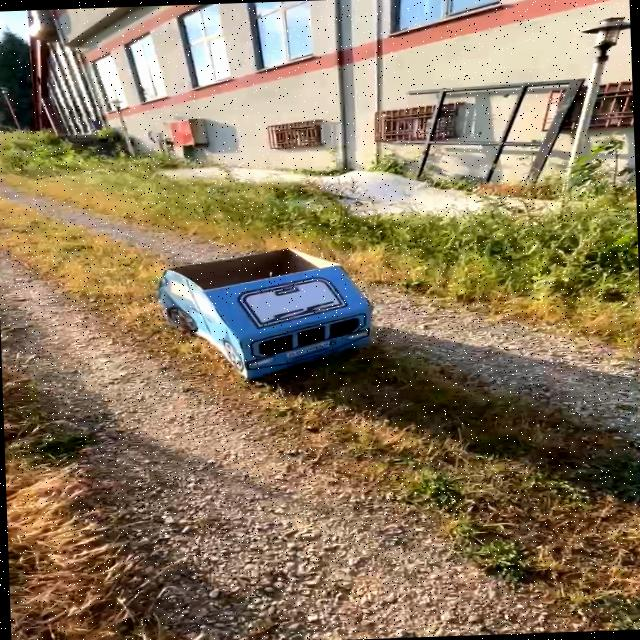blue_car: (121, 213, 437, 404)
